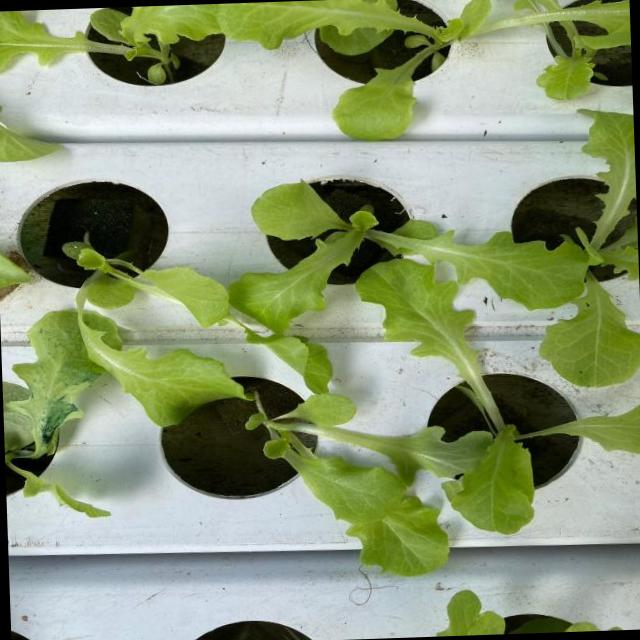Lettuce-Not-Ready-to-Harvest: (355, 258, 640, 531), (221, 160, 593, 338), (213, 0, 634, 155), (241, 384, 504, 614), (56, 217, 242, 435), (529, 126, 640, 383)
